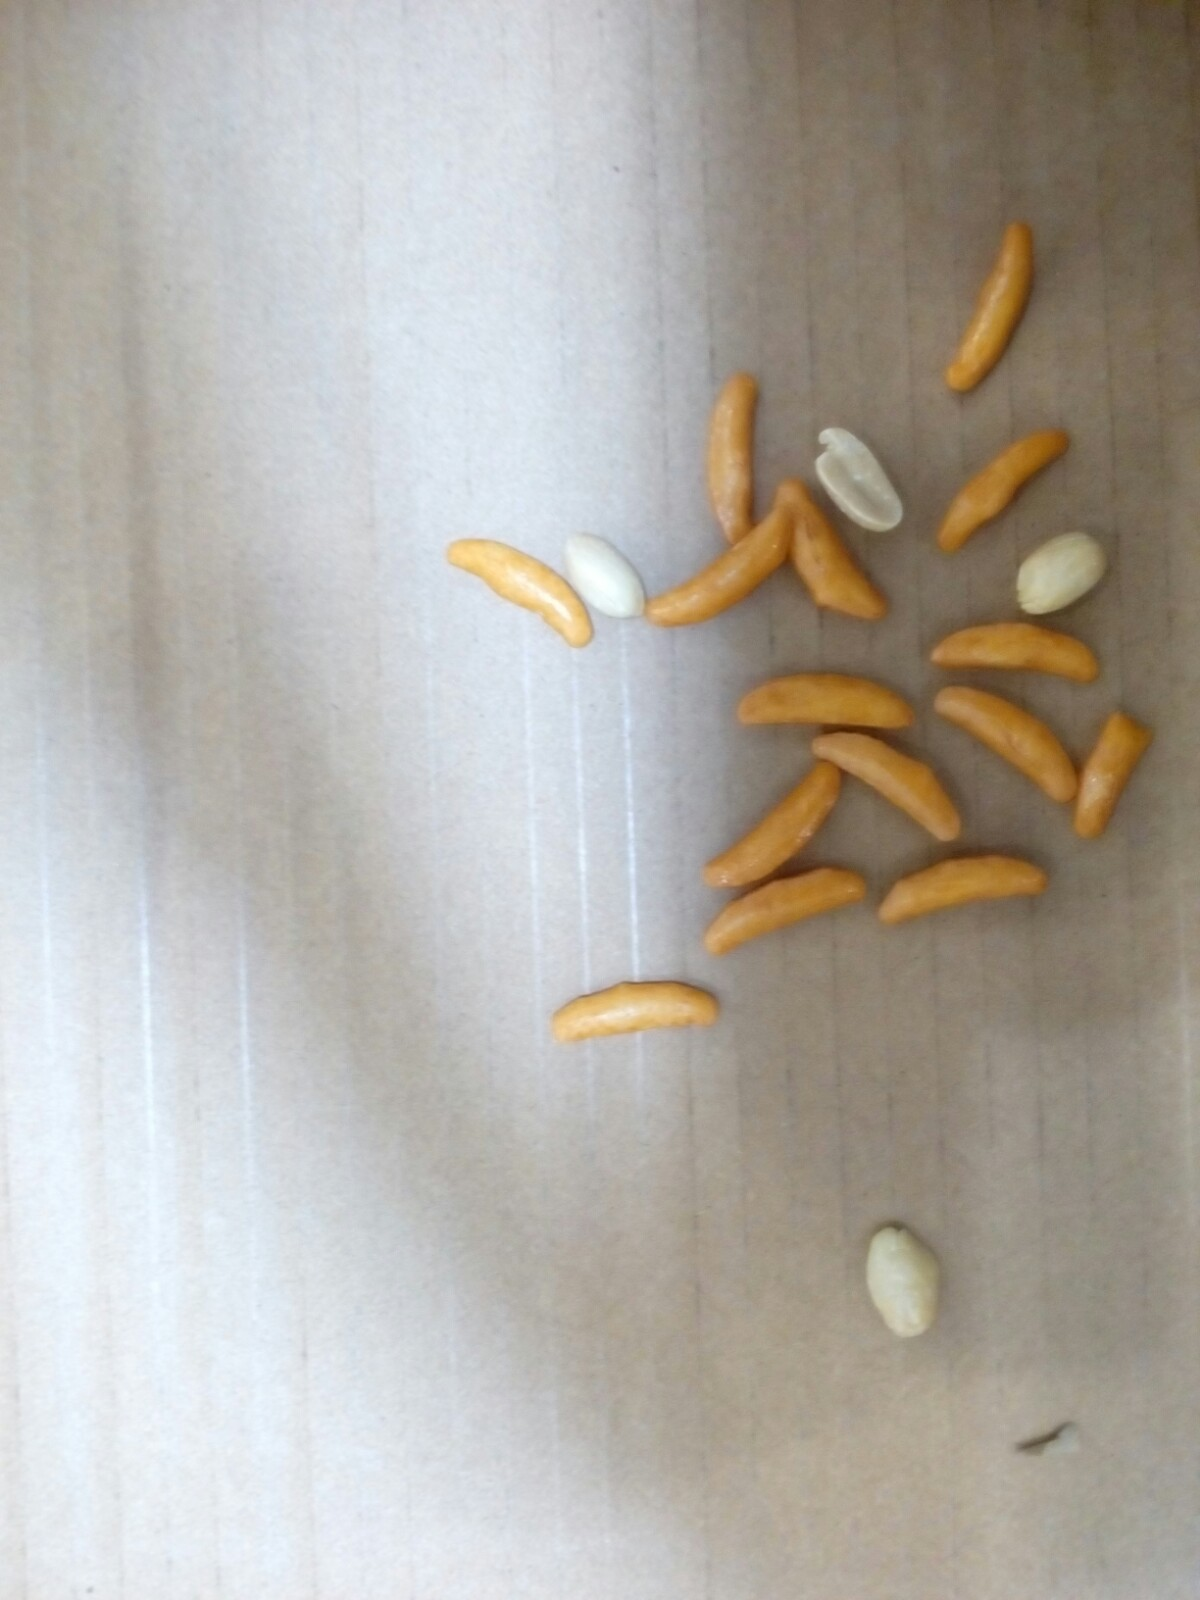peanut: (795, 409, 916, 551), (850, 1197, 950, 1351), (1003, 517, 1118, 625), (548, 522, 655, 629)
